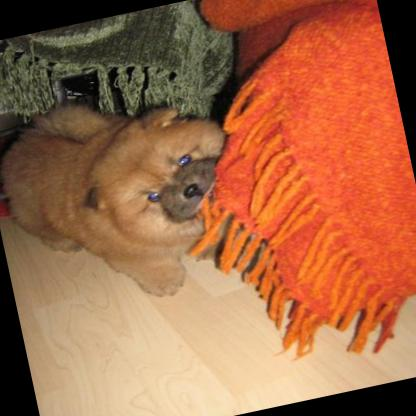chow: (0, 64, 266, 327)
